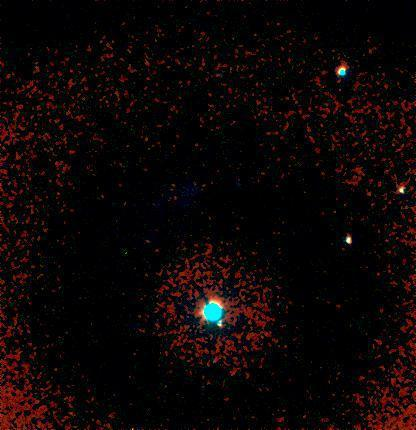star: (107, 238, 137, 268)
